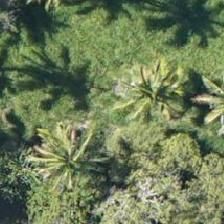coconut_tree: (86, 42, 176, 132), (28, 110, 118, 200)
